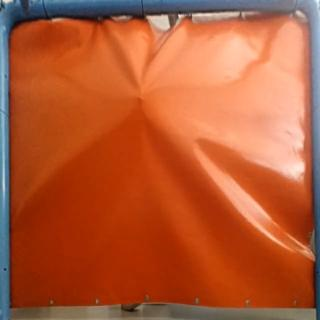Hit-hRxx: (132, 91, 148, 106)
